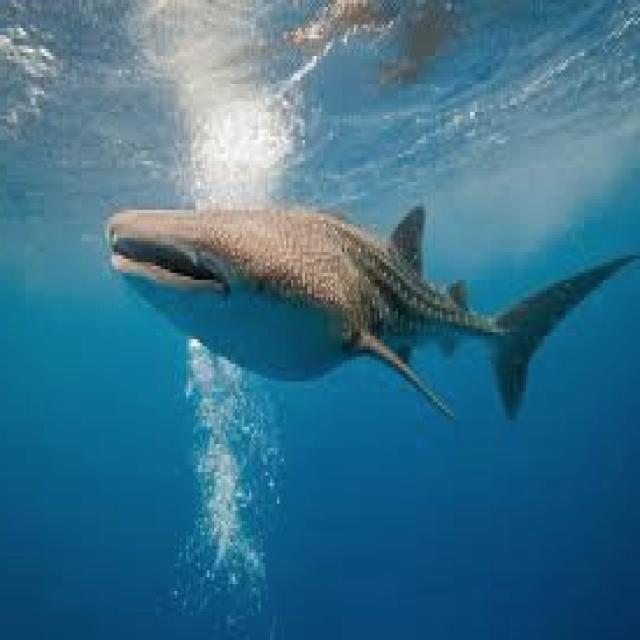whale: (105, 206, 640, 421)
